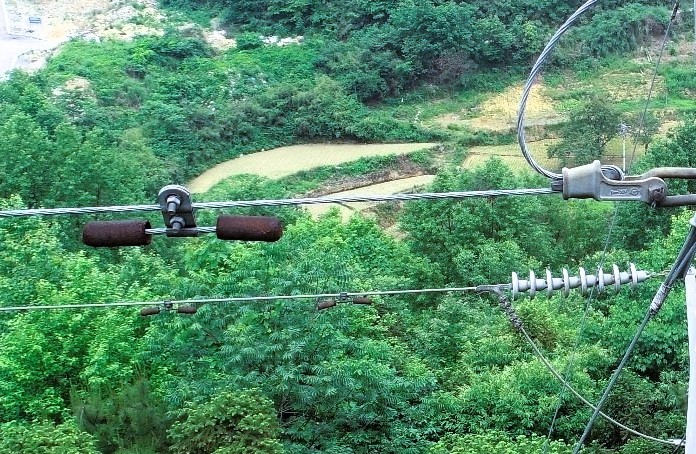Shockproof hammer: (75, 183, 289, 253)
